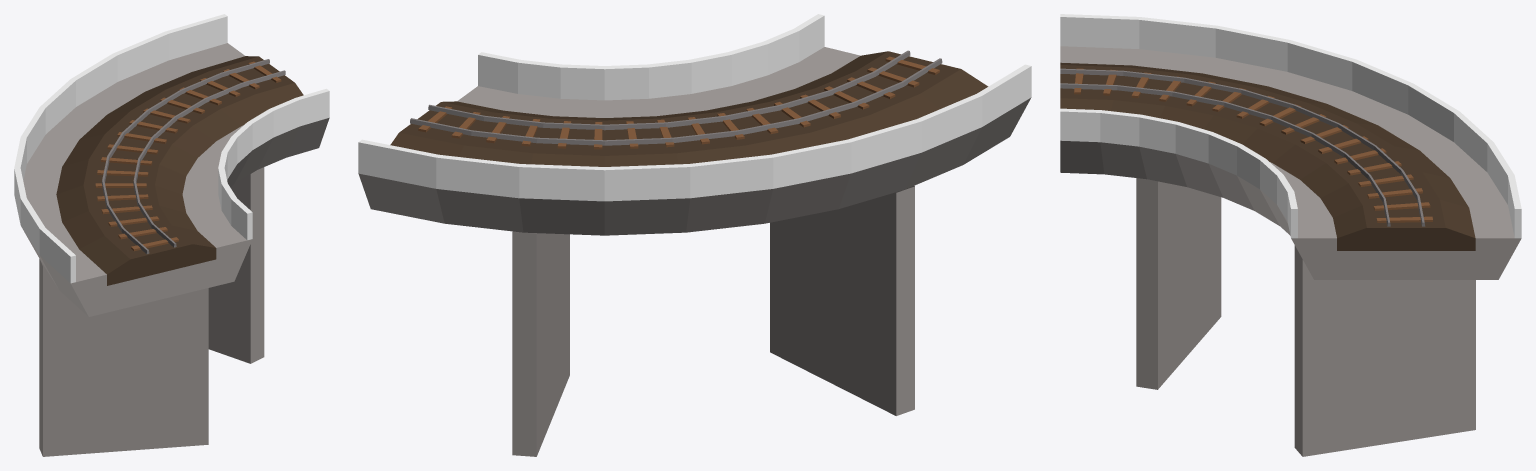
The model's file is tiles_bridge-rail-curve.fbx.
3 renders of one model, left to right at view 1: azimuth 30°, elevation 25°; view 2: azimuth 150°, elevation 25°; view 3: azimuth 270°, elevation 25°, orthographic. The views are drawn at different scales.
Visible parts, largest first — view 1: tiles_bridge_rail_curve; view 2: tiles_bridge_rail_curve; view 3: tiles_bridge_rail_curve.
Part boxes in pixels (x1,y1,x2,y2): tiles_bridge_rail_curve: (14,14,329,456); tiles_bridge_rail_curve: (358,14,1031,456); tiles_bridge_rail_curve: (1060,14,1521,456).
Size of the model in its own units: 200 by 134 by 200.
